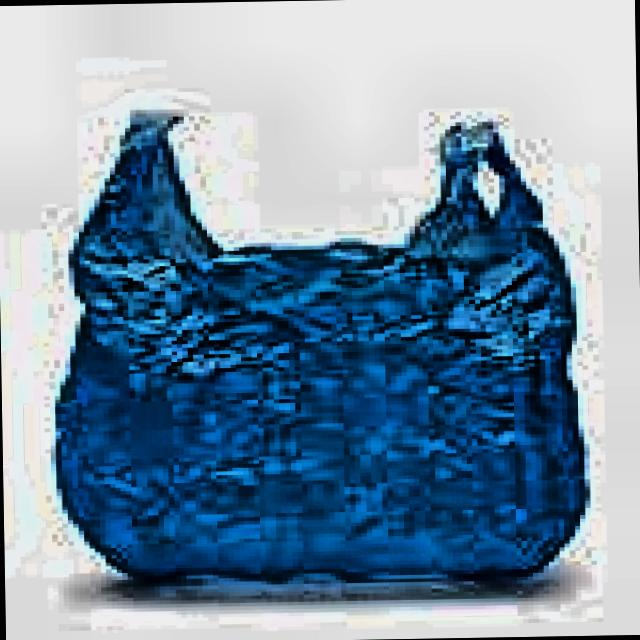plastic bag: (57, 116, 584, 577)
